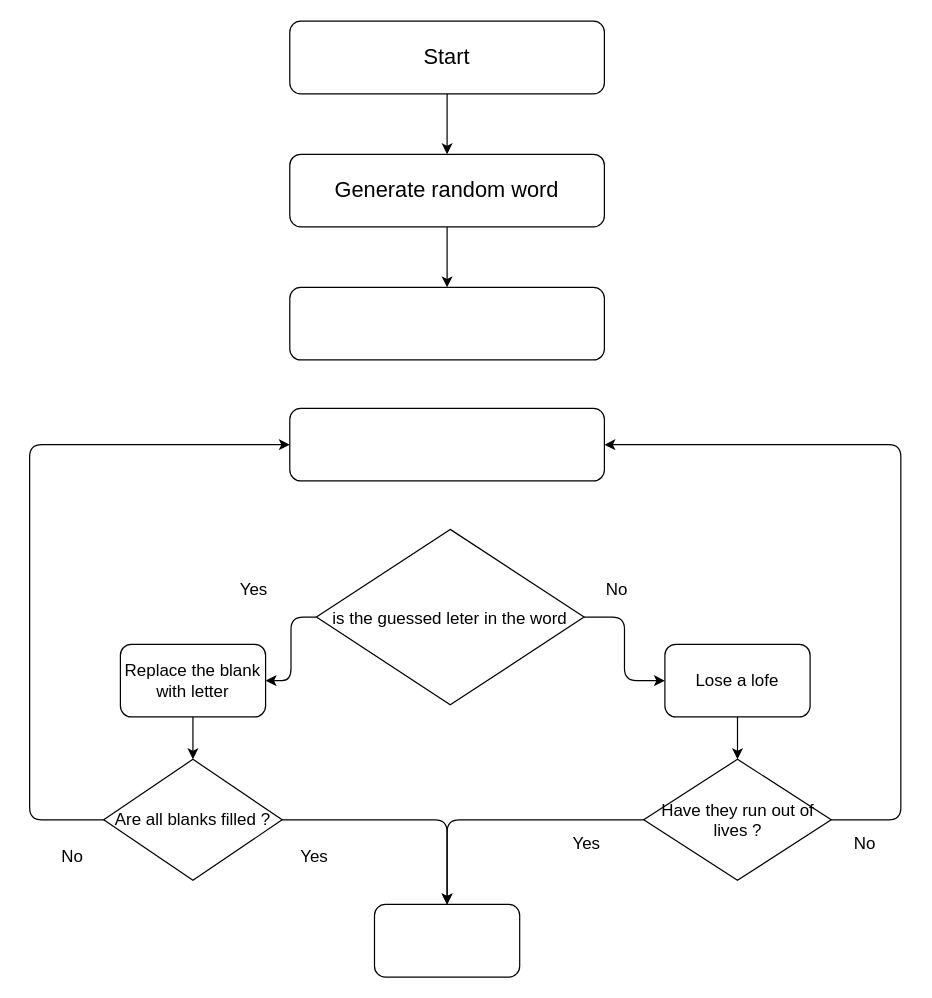
This 932x998 diagram has some shape labels left out. The shapes that lost their labels are listed below. From the top down, each one's centre as x and y in pixels, then its label:
At point 446,323: "Generate blanks as many as letters".
At point 446,444: "ask user to guess a letter".
At point 446,940: "Game Over".
